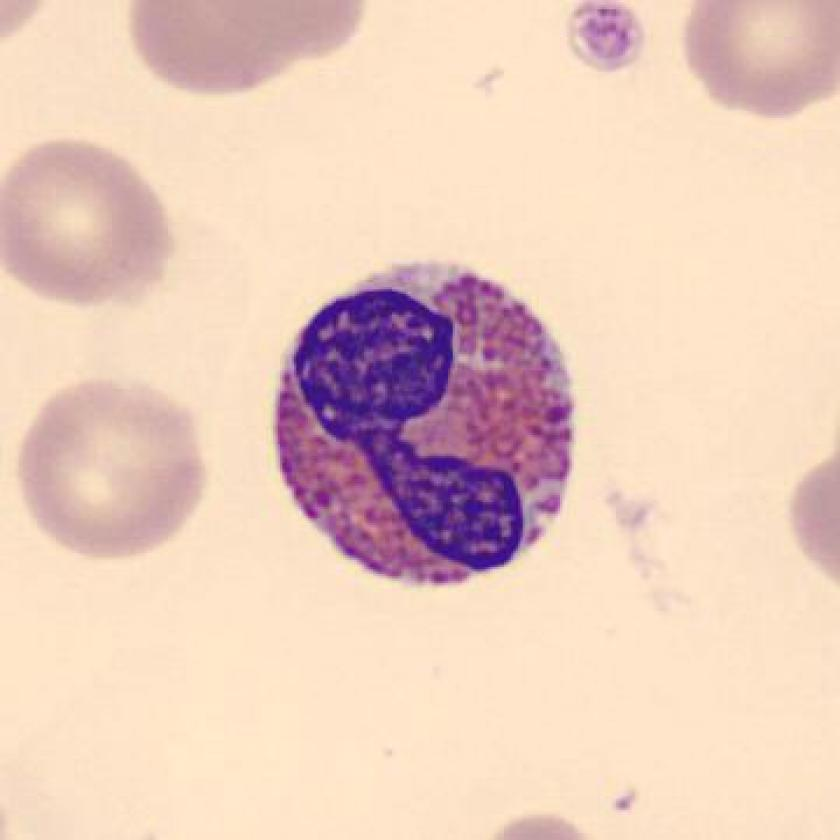eosinophil: (253, 247, 594, 601), (689, 540, 692, 543)
